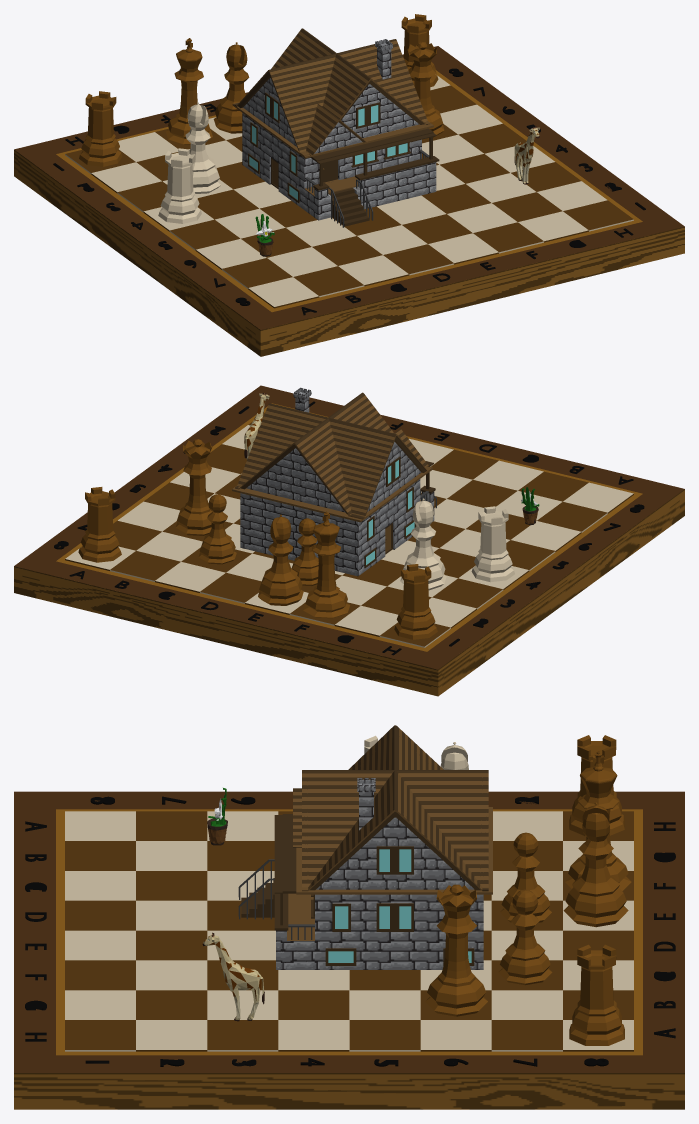
The picture shows the model from 3 angles, top to bottom: view 1: azimuth 30°, elevation 25°; view 2: azimuth 150°, elevation 25°; view 3: azimuth 270°, elevation 25°; orthographic projection. The views are drawn at different scales.
Visible parts, largest first — view 1: Cube.002, Cube.586, ANIMAL_JIRAFA, OBJRANDOM_MONJA BLANCA; view 2: Cube.002, Cube.586, ANIMAL_JIRAFA, OBJRANDOM_MONJA BLANCA; view 3: Cube.002, Cube.586, ANIMAL_JIRAFA, OBJRANDOM_MONJA BLANCA.
Part boxes in pixels (left/top/right/bottom): Cube.002: left=14, top=14, right=684, bottom=356; Cube.586: left=232, top=28, right=439, bottom=227; ANIMAL_JIRAFA: left=514, top=126, right=539, bottom=184; OBJRANDOM_MONJA BLANCA: left=255, top=214, right=274, bottom=256; Cube.002: left=14, top=385, right=684, bottom=696; Cube.586: left=232, top=387, right=436, bottom=576; ANIMAL_JIRAFA: left=244, top=393, right=269, bottom=459; OBJRANDOM_MONJA BLANCA: left=521, top=487, right=539, bottom=525; Cube.002: left=14, top=735, right=684, bottom=1109; Cube.586: left=238, top=725, right=492, bottom=969; ANIMAL_JIRAFA: left=202, top=932, right=264, bottom=1021; OBJRANDOM_MONJA BLANCA: left=207, top=788, right=227, bottom=845.
Size of the model in its own units: 3981 by 1493 by 4012.
Materials: 28 (3 with a texture image).
